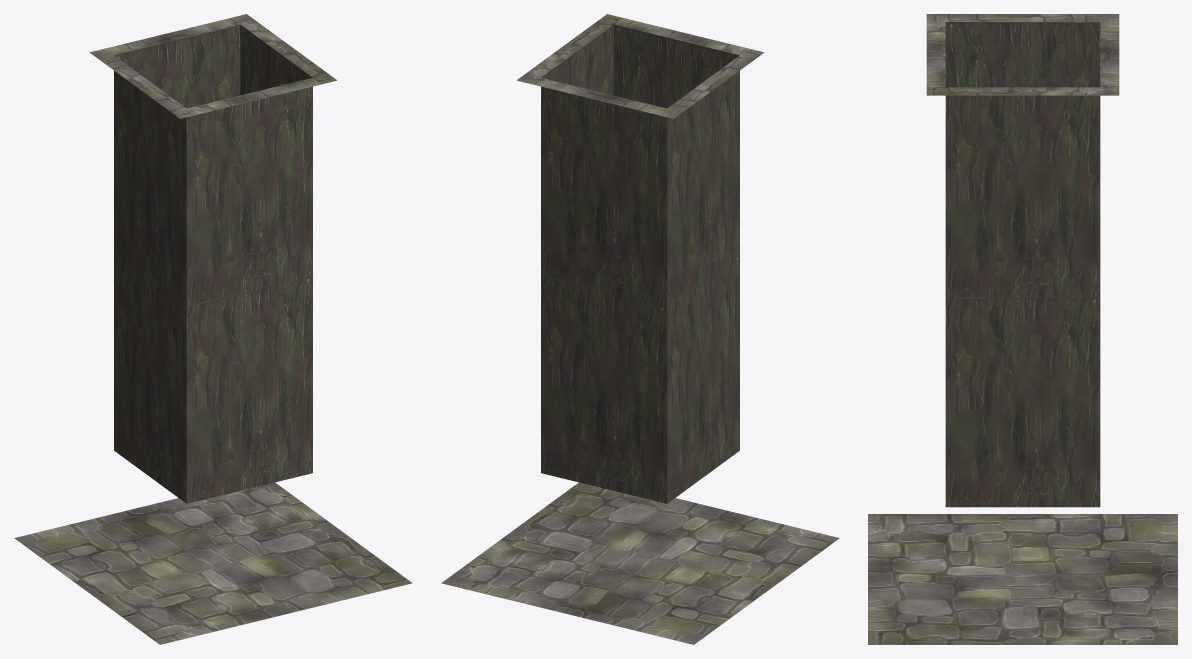
The model's file is Floor_Hole.obj.
3 renders of one model, left to right at view 1: azimuth 30°, elevation 25°; view 2: azimuth 150°, elevation 25°; view 3: azimuth 270°, elevation 25°, orthographic. The views are drawn at different scales.
Parts seen in each view (by area): view 1: Floor_Hole; view 2: Floor_Hole; view 3: Floor_Hole.
Boxes of the visible parts, x1,y1,x2,y2 form: Floor_Hole: (14, 14, 412, 644); Floor_Hole: (441, 14, 839, 644); Floor_Hole: (868, 14, 1177, 644).
Size of the model in its own units: 16.06 by 30 by 16.06.
